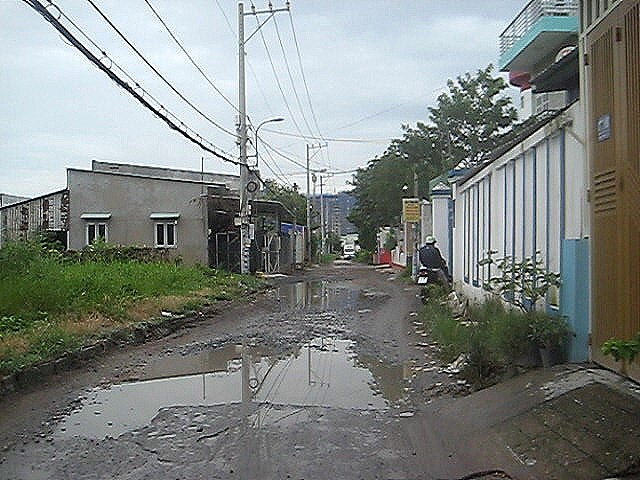hole: (36, 328, 414, 450), (250, 277, 391, 324)
